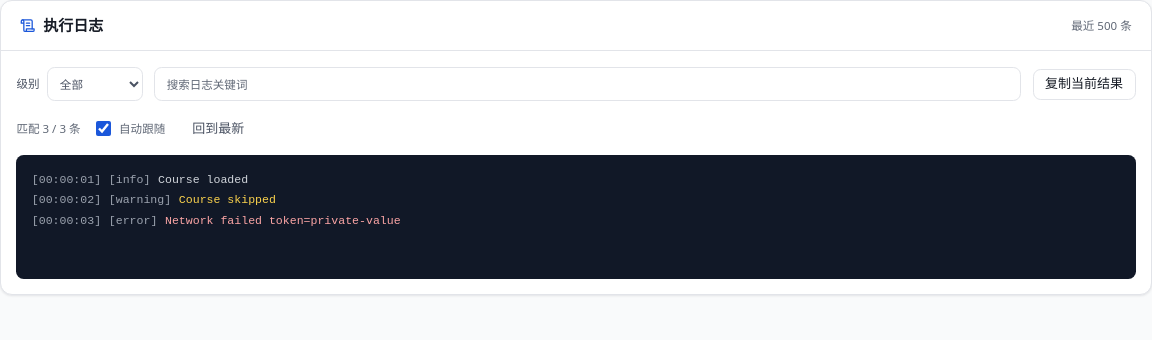
Test: copies only filtered logs, with time, level, and masked secrets
Select "仅错误" in the dropdown named "日志级别" at [95, 84], box [47,67,143,101]
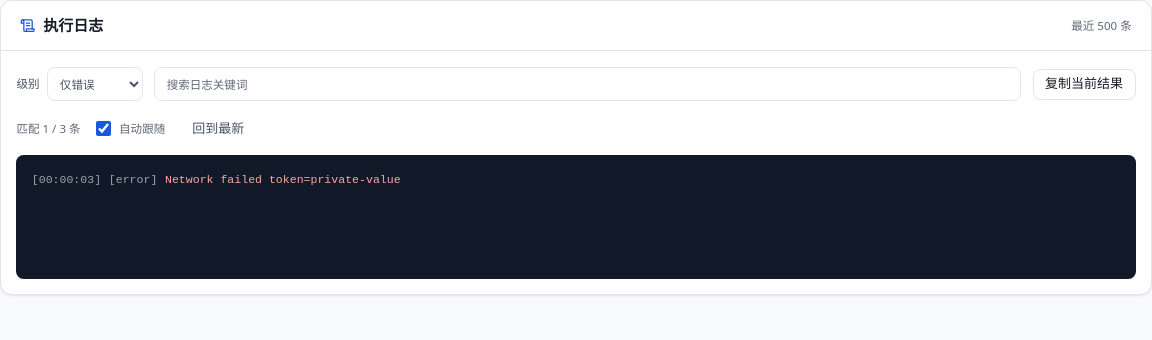
Click the button "复制当前结果" at [1084, 84], box [1032,69,1136,100]
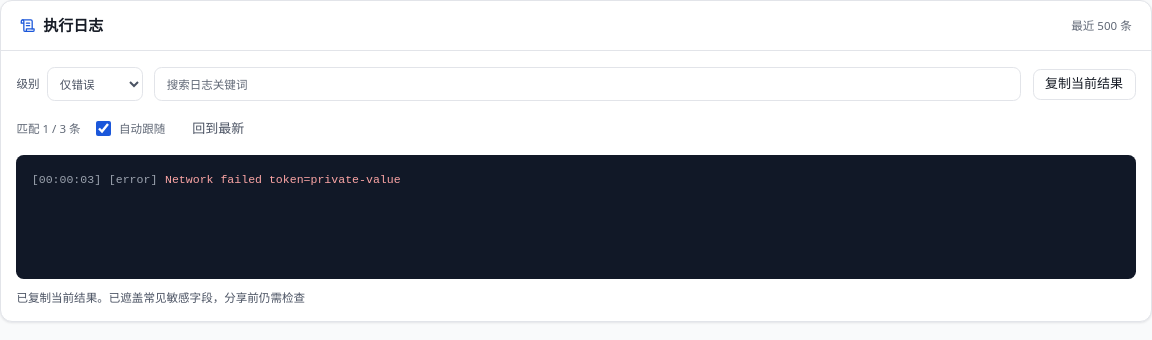
Check: the element showing "[00:00:03][error]Network failed token=private-value" is shown, box [16,155,1136,279]
Check: the text "已复制当前结果。已遮盖常见敏感字段，分享前仍需检查" is shown, box [16,290,305,305]
